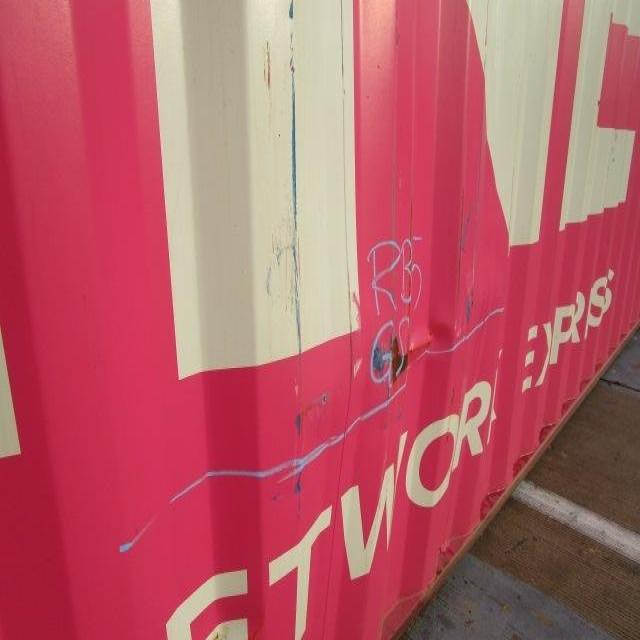dent: (358, 292, 455, 406)
